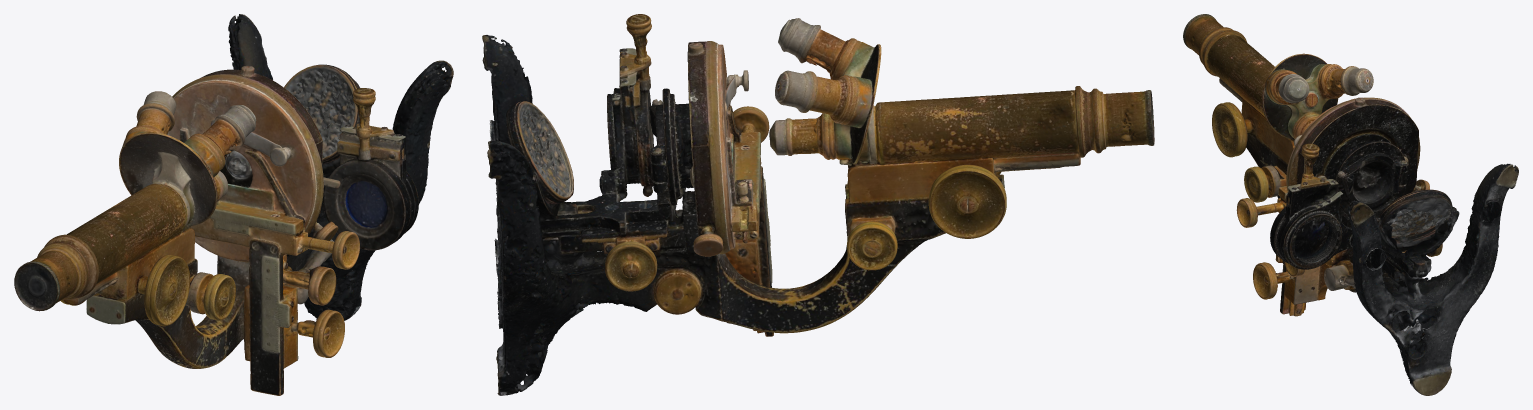
File: ETHZ_GEOB_0055.glb
The picture shows the model from 3 angles, left to right: view 1: azimuth 30°, elevation 25°; view 2: azimuth 150°, elevation 25°; view 3: azimuth 270°, elevation 25°; orthographic projection. The views are drawn at different scales.
Parts seen in each view (by area): view 1: ETHZ_GEOB_0055_ArchivalMaster_CF_20260616; view 2: ETHZ_GEOB_0055_ArchivalMaster_CF_20260616; view 3: ETHZ_GEOB_0055_ArchivalMaster_CF_20260616.
Part boxes in pixels (x1,y1,x2,y2): ETHZ_GEOB_0055_ArchivalMaster_CF_20260616: [14, 14, 453, 395]; ETHZ_GEOB_0055_ArchivalMaster_CF_20260616: [482, 14, 1154, 395]; ETHZ_GEOB_0055_ArchivalMaster_CF_20260616: [1183, 14, 1518, 395].
Bounding box in the file's own units: 0.3116 × 0.1826 × 0.2231.
Materials: 1 (1 with a texture image).
